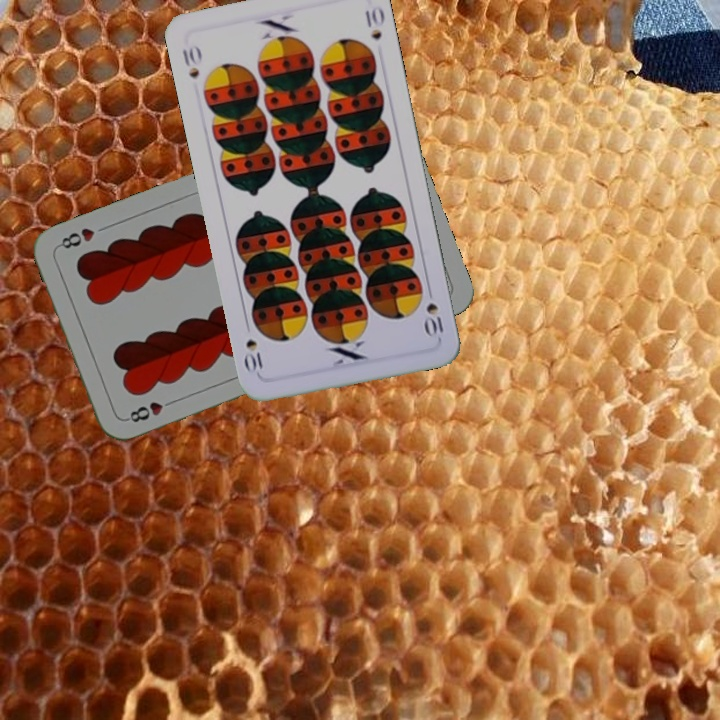H8: (122, 395, 179, 425)
S10: (421, 282, 446, 340), (178, 41, 204, 81)
